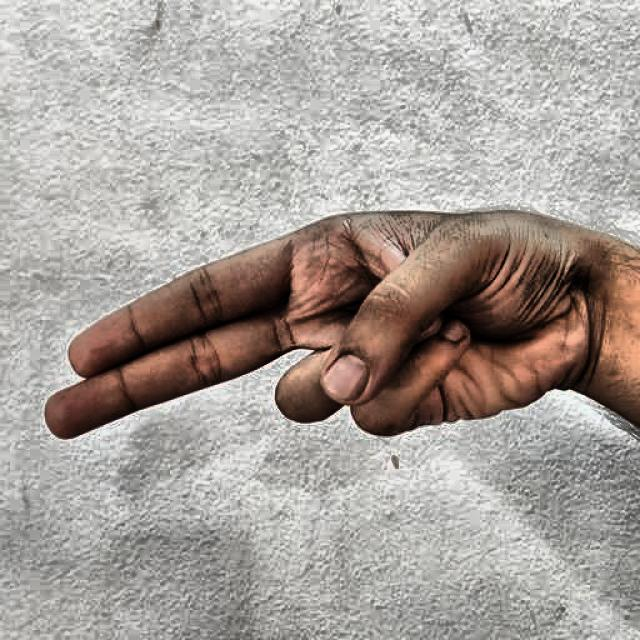Ha: (32, 140, 587, 552)
